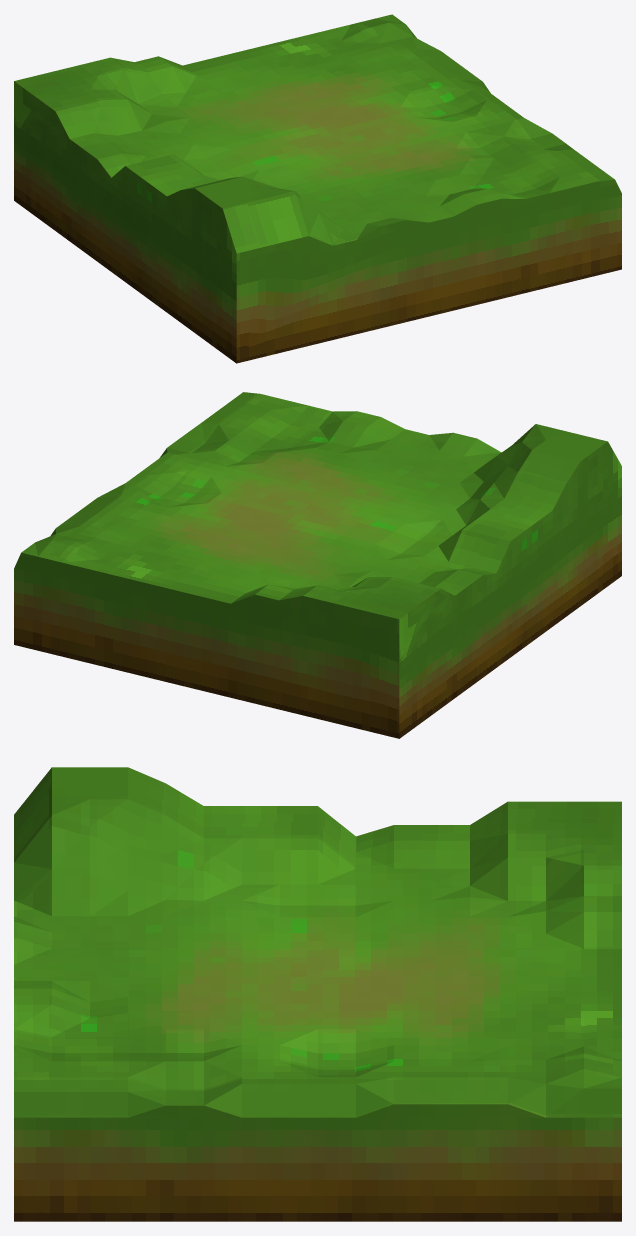
Rendered from cenario5.obj.
The picture shows the model from 3 angles, top to bottom: view 1: azimuth 30°, elevation 25°; view 2: azimuth 150°, elevation 25°; view 3: azimuth 270°, elevation 25°; orthographic projection. The views are drawn at different scales.
Parts seen in each view (by area): view 1: base_relevo3_Cube.004; view 2: base_relevo3_Cube.004; view 3: base_relevo3_Cube.004.
Part boxes in pixels (x1=…): base_relevo3_Cube.004: x1=14, y1=14, x2=621, y2=363; base_relevo3_Cube.004: x1=14, y1=392, x2=621, y2=738; base_relevo3_Cube.004: x1=14, y1=767, x2=621, y2=1221.
Bounding box in the file's own units: 2 × 0.7174 × 2.
1 material, 1 textured.
